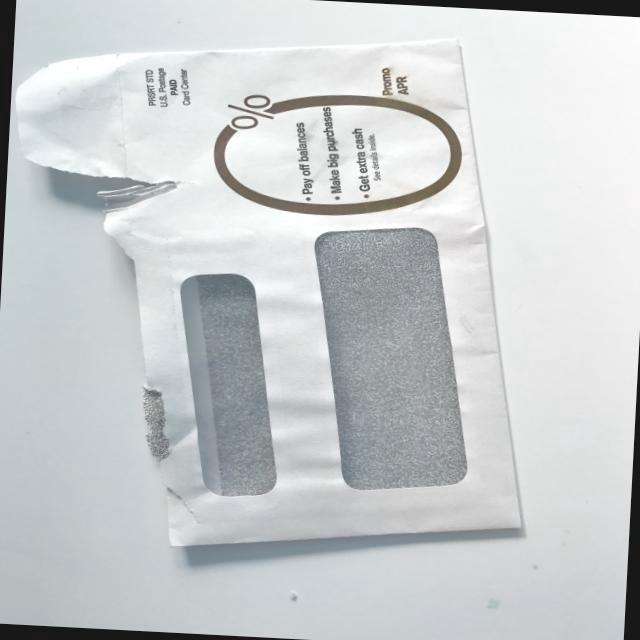paper: (0, 0, 552, 573)
